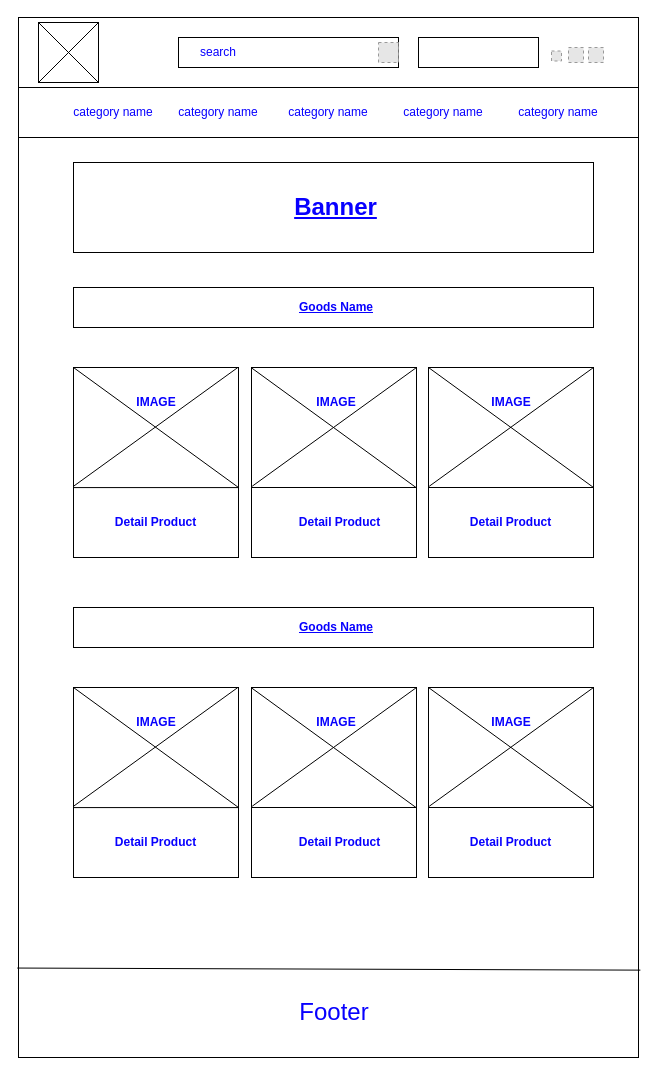
This 660x1075 diagram has some shape labels left out. Grey dashed boxes stand in for pictures. Here are the shapes that lost their labels. From the top down, the box of each, then its label:
(38, 22, 98, 82): LOGO
(418, 36, 538, 68): Kiểm tra đơn hàng
